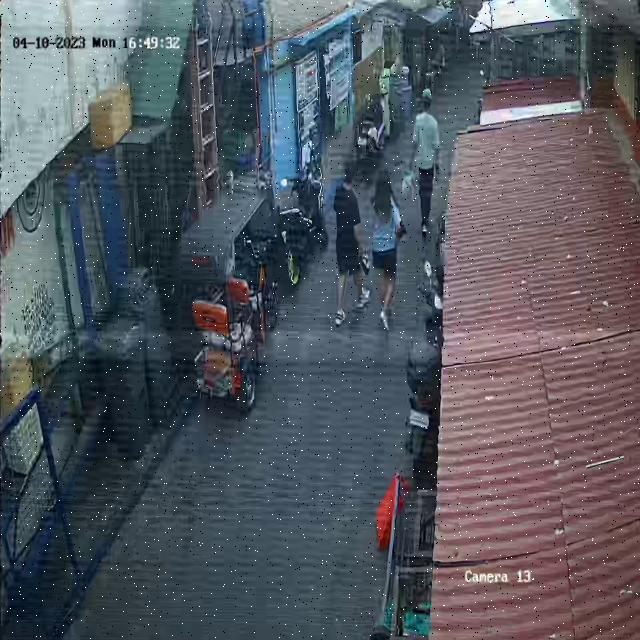garbage_dumping: (399, 156, 419, 205)
